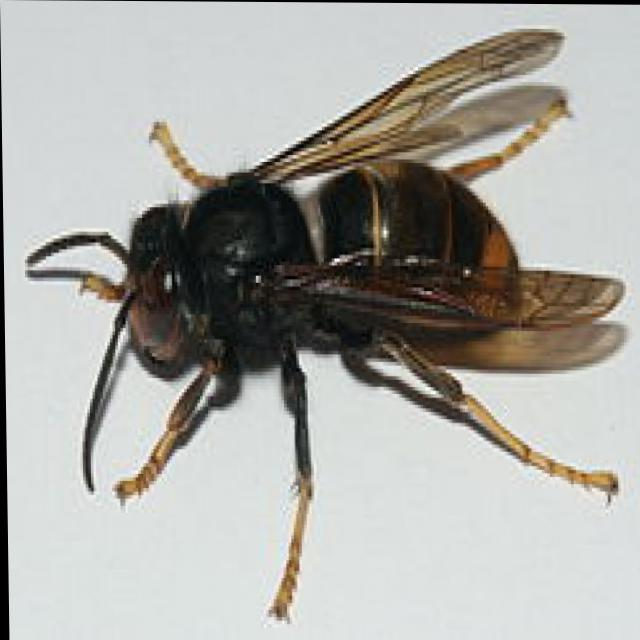Vespa Velutina: (14, 17, 632, 639)
